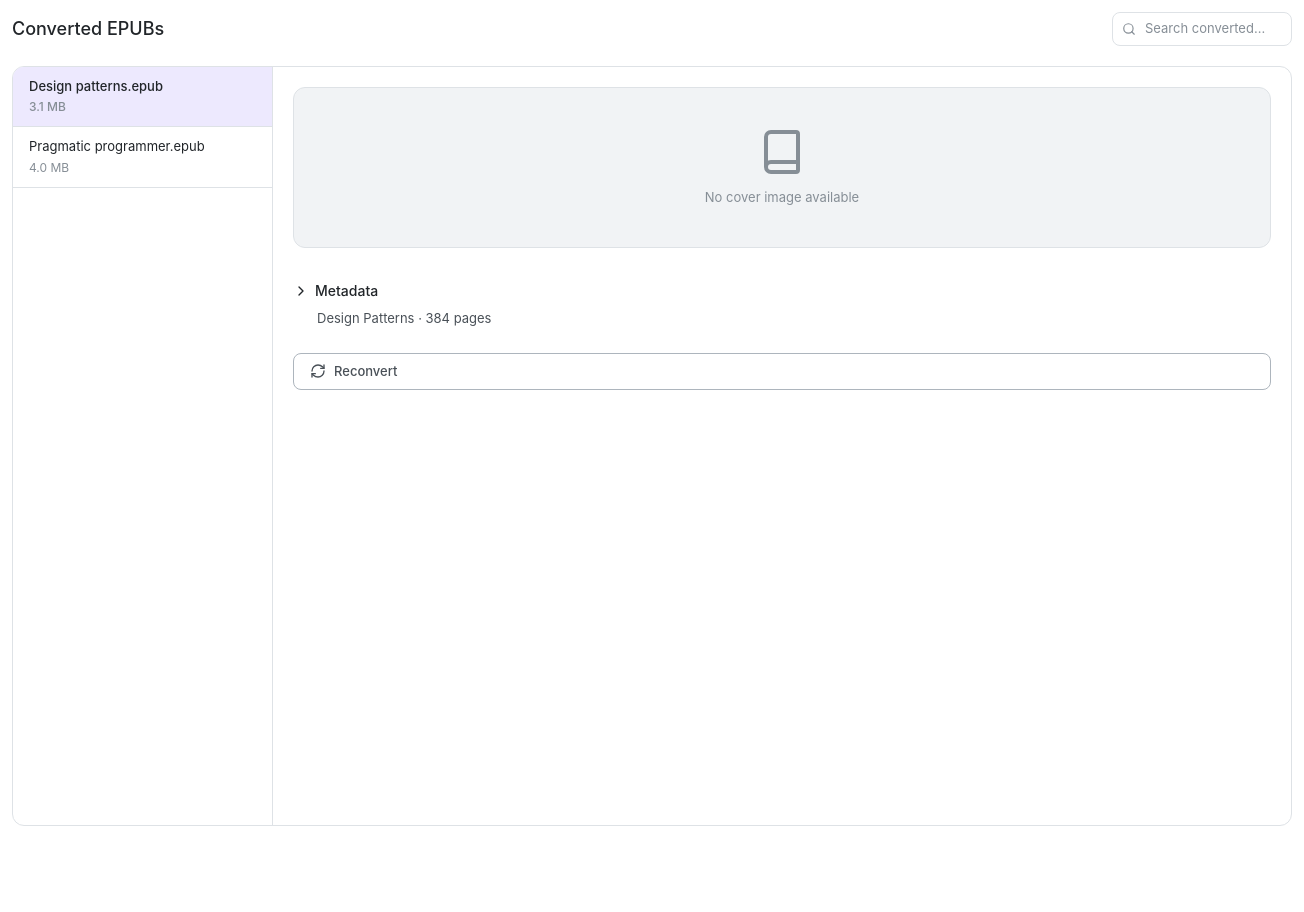
Test: ConvertedScreen › shows metadata section with EPUB details when expanded
The width and height of the screenshot is (1304, 912).
Click the button "Metadata": (347, 290) [293,272,1271,309]
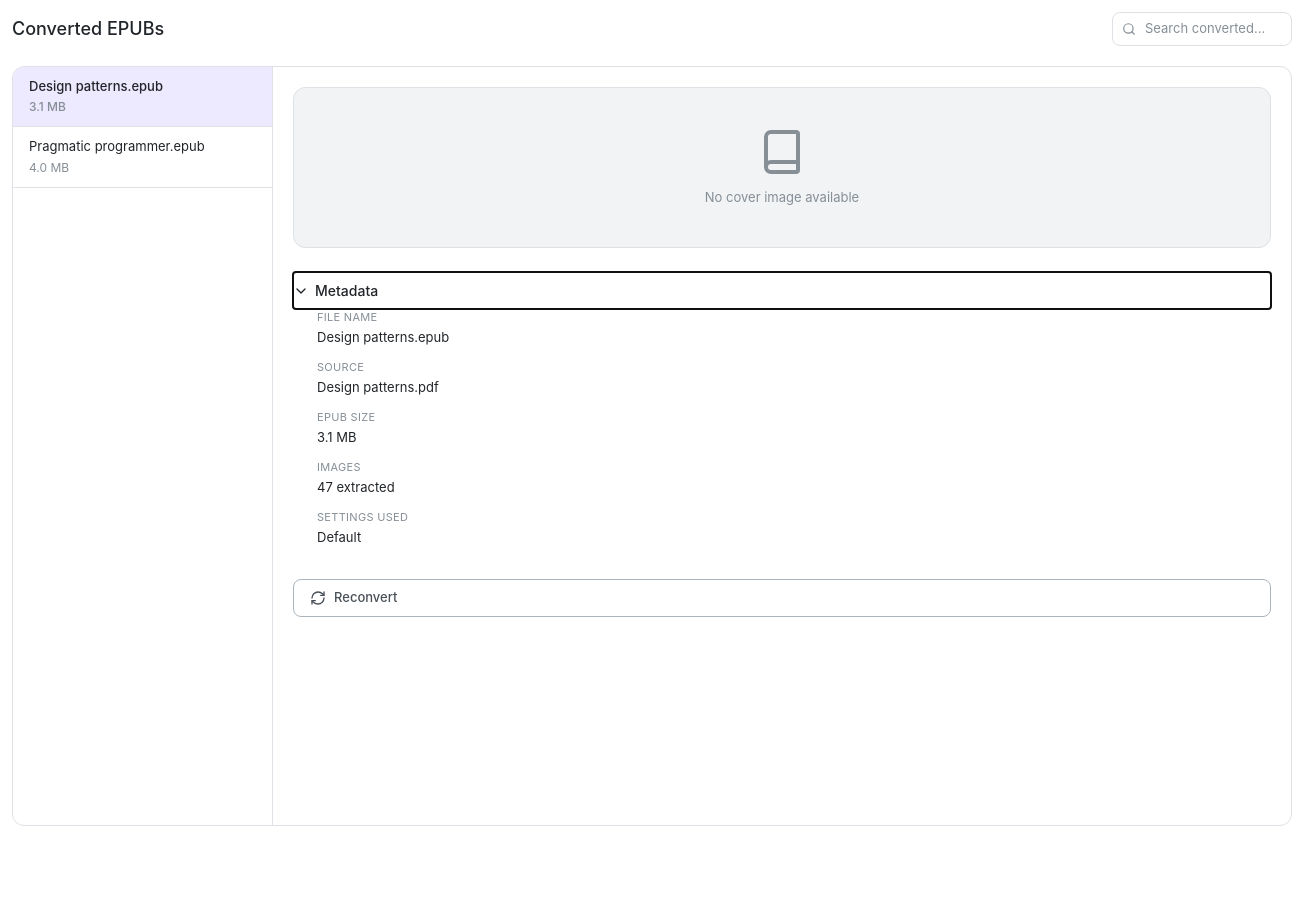
Check: the text "Source" is shown, box [317,360,364,374]
Check: the text "EPUB size" is shown, box [317,410,375,424]
Check: the text "Images" is shown, box [317,460,361,474]
